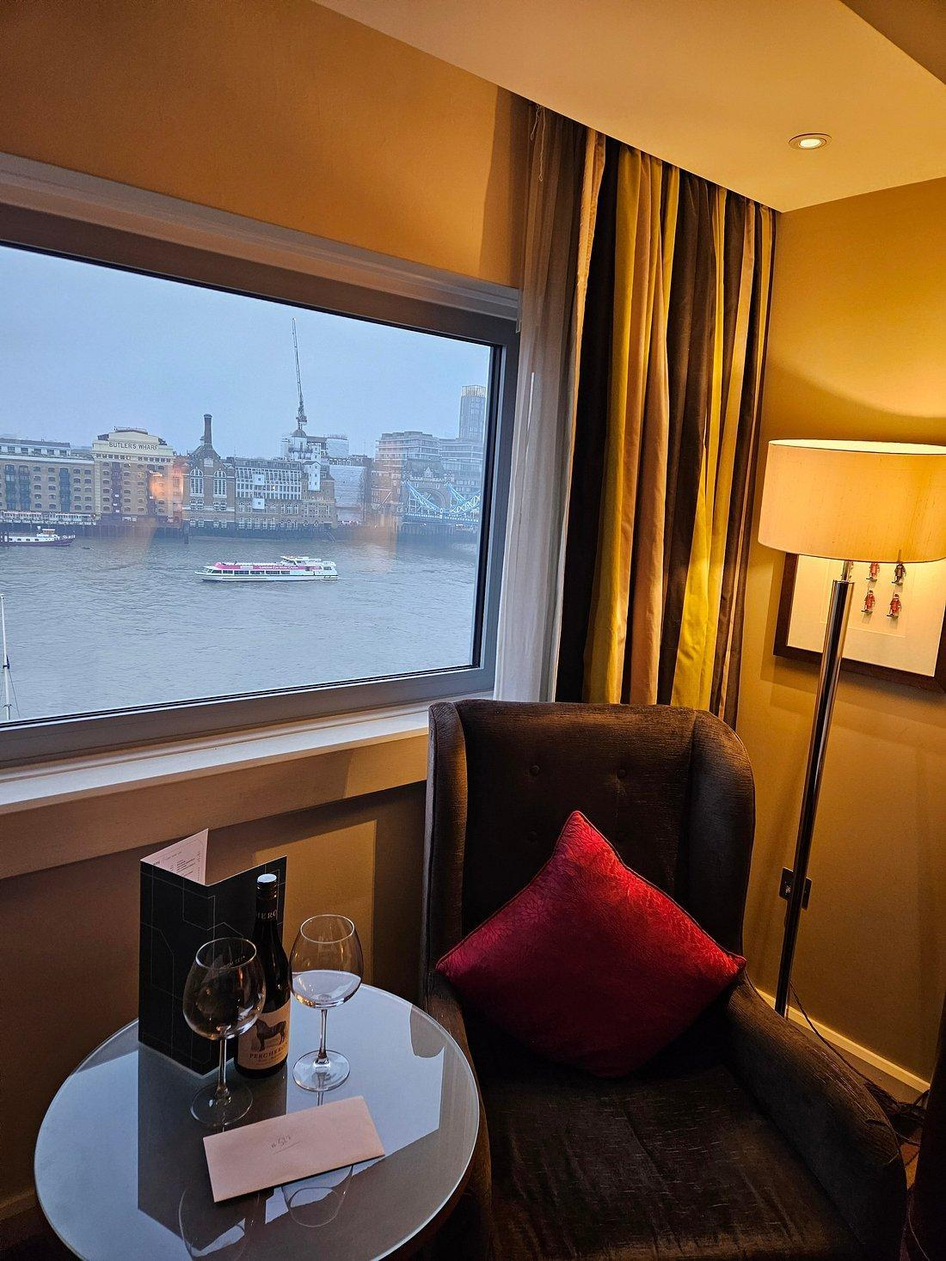chair: (430, 705, 903, 1257)
lamp: (774, 436, 946, 1012)
organized table: (28, 838, 473, 1260)
